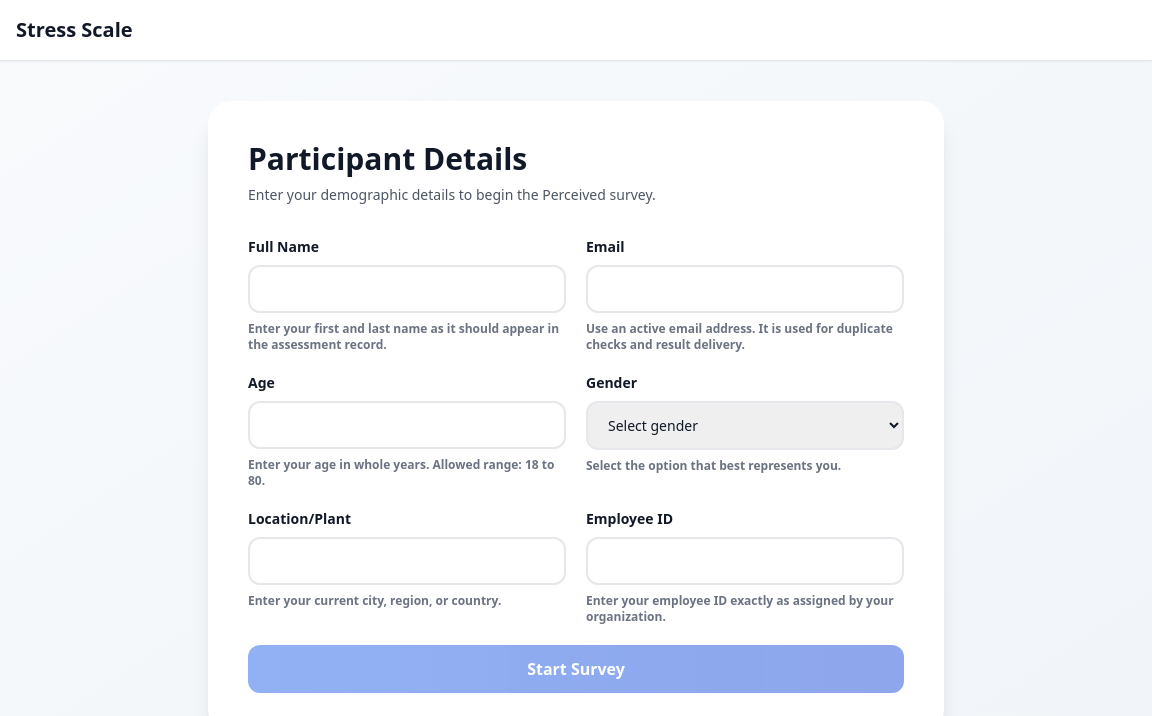
Test: AssessmentPage › blocks a repeated submission already cached on this device
Type "Test User" into the field labelled "Full Name". click: (407, 289)
box: left=248, top=265, right=566, bottom=313
Type "test@example.com" into the field labelled "Email". click: (745, 289)
box: left=586, top=265, right=904, bottom=313
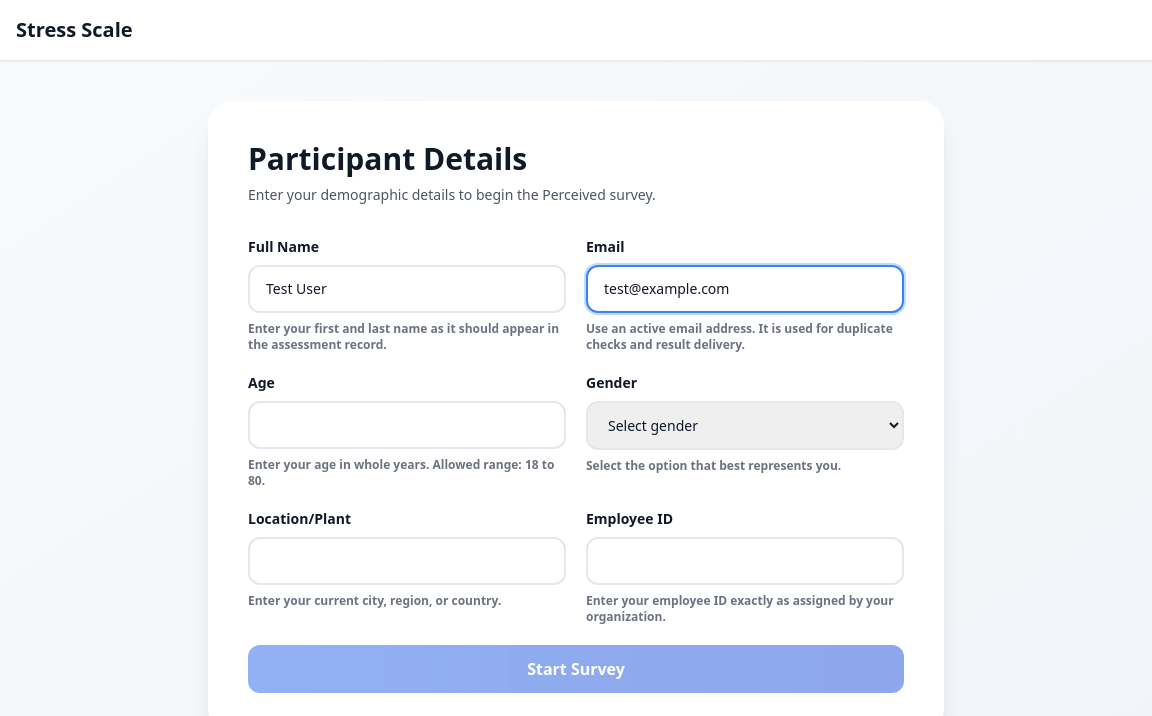
Type "29" into the number field labelled "Age Enter your age in whole years. Allowed range: 18 to 80.". click: (407, 425)
box: left=248, top=401, right=566, bottom=449
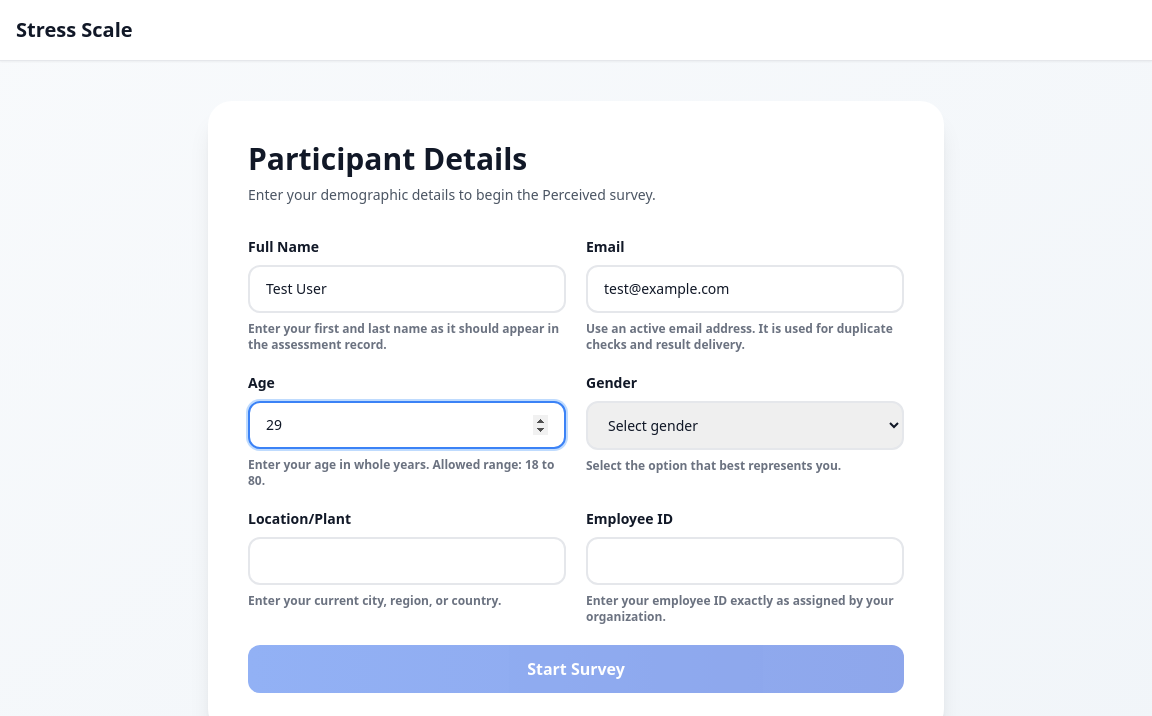
Select "Female" in the dropdown labelled "Gender Select the option that best represents you.". click: (745, 426)
box: left=586, top=401, right=904, bottom=450
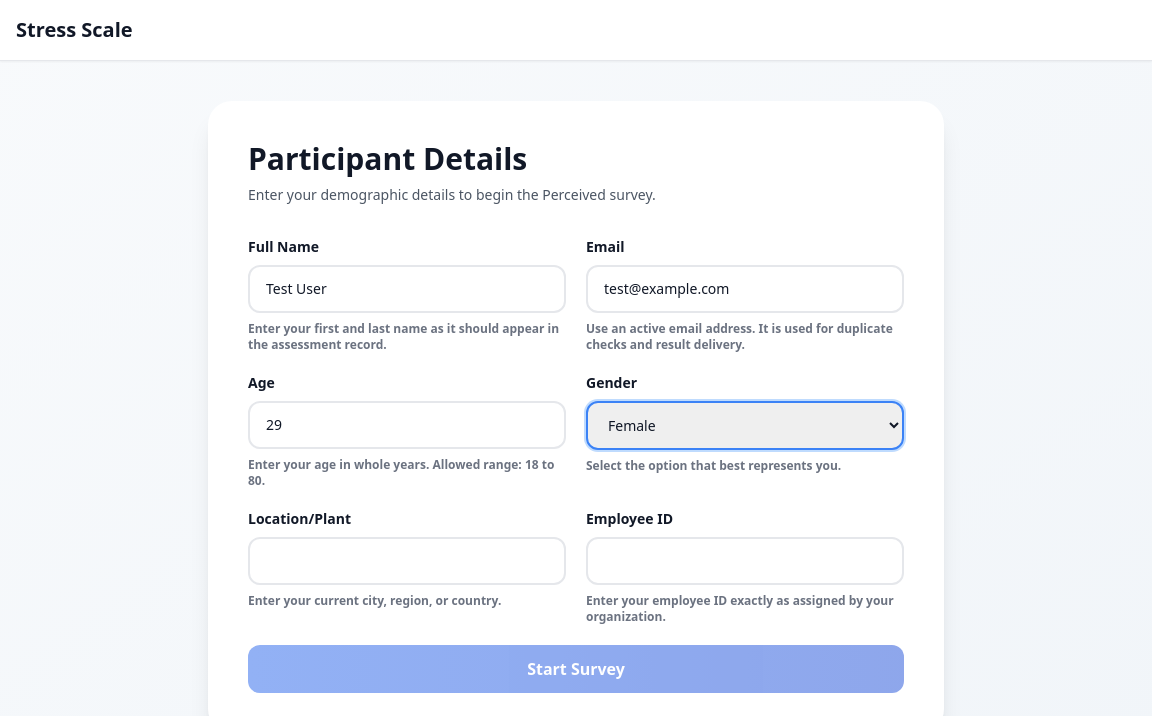
Type "Mumbai" into the field labelled "Location/Plant Enter your current city, region, or country.". click: (407, 561)
box: left=248, top=537, right=566, bottom=585
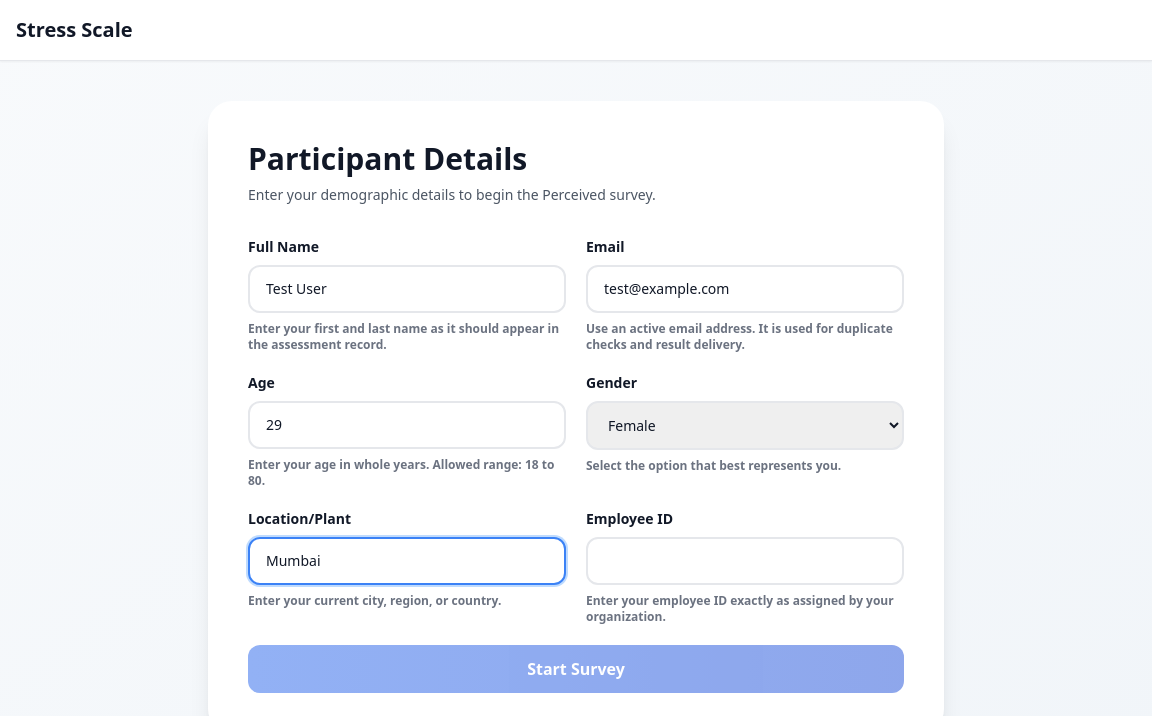
Type "EMP-123" into the field labelled "Employee ID". click: (745, 561)
box: left=586, top=537, right=904, bottom=585
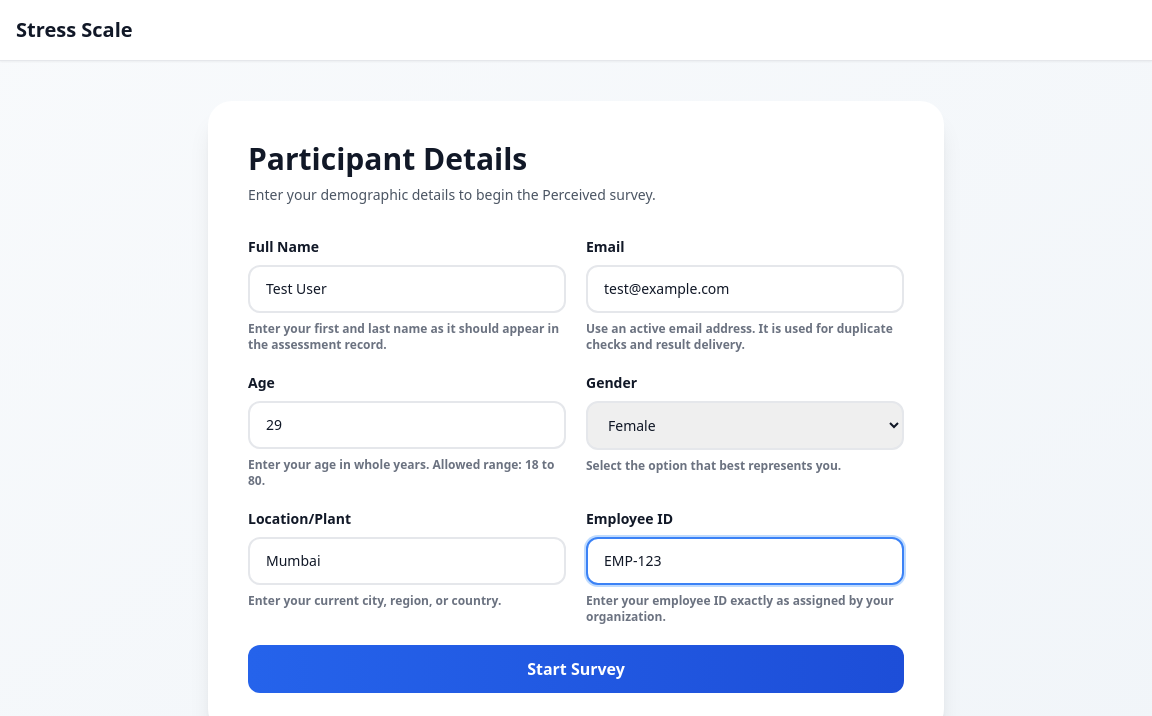
Click the button "Start Survey". click: (576, 669)
box: left=248, top=645, right=904, bottom=693
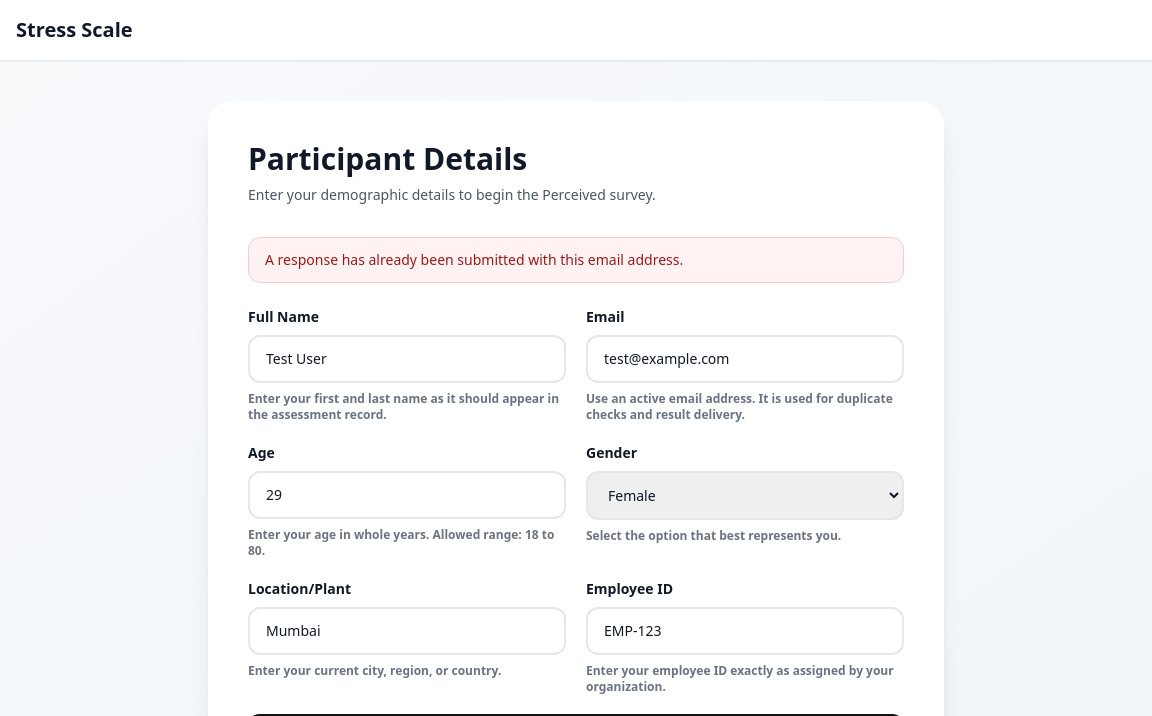
expect the text "A response has already been submitted with this email address." is shown: met, box left=248, top=237, right=904, bottom=283
